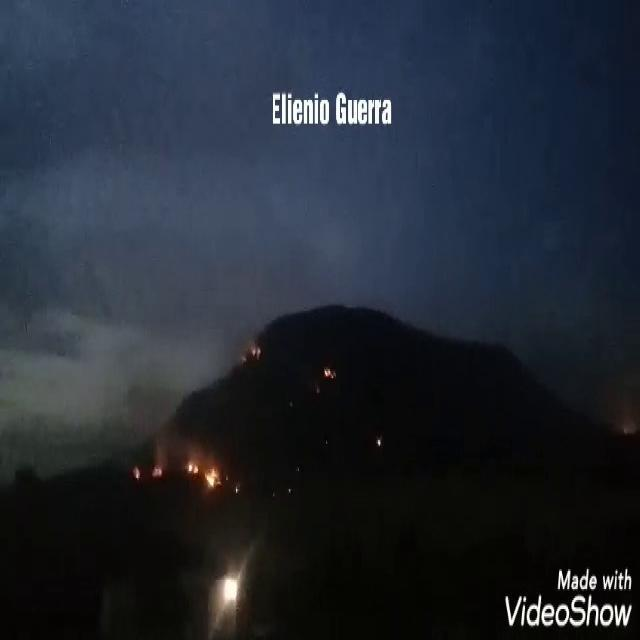Fire: (210, 562, 243, 608), (206, 462, 220, 488), (149, 458, 167, 474)
